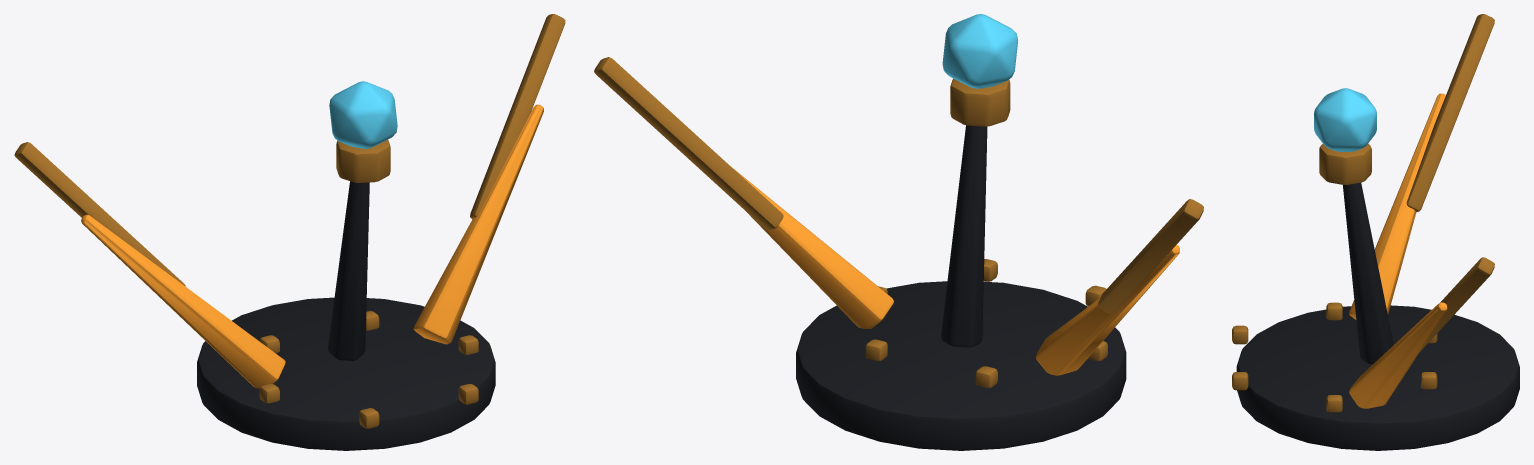
File: BranchA.obj
The picture shows the model from 3 angles, left to right: view 1: azimuth 30°, elevation 25°; view 2: azimuth 150°, elevation 25°; view 3: azimuth 270°, elevation 25°; orthographic projection. The views are drawn at different scales.
Parts seen in each view (by area): view 1: BranchA; view 2: BranchA; view 3: BranchA.
Boxes of the visible parts, x1=… form: BranchA: x1=14, y1=14, x2=565, y2=450; BranchA: x1=594, y1=14, x2=1203, y2=450; BranchA: x1=1232, y1=14, x2=1519, y2=450.
Bounding box in the file's own units: 1.1 × 0.6148 × 0.5282.
